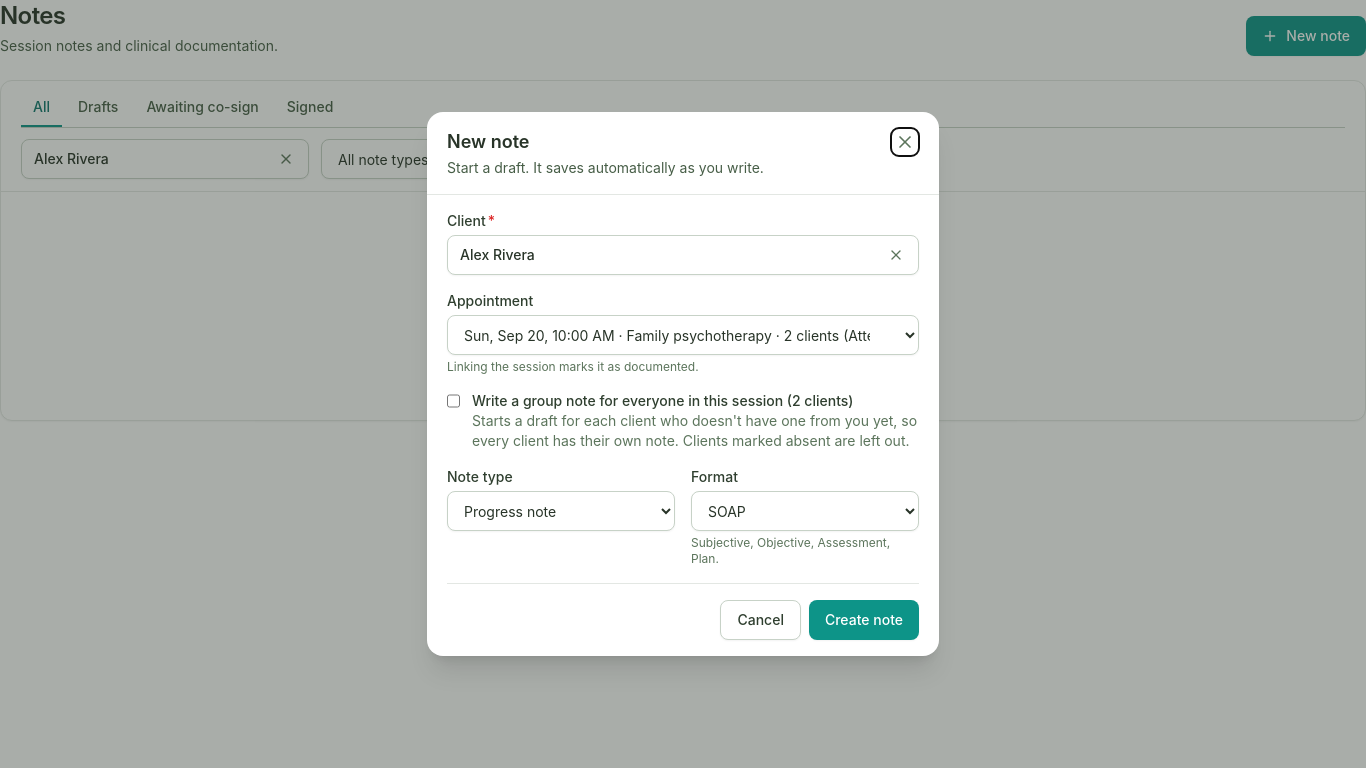
Test: group notes › offers a group note from the New note dialog for a multi-client session
Click the checkbox labelled "Write a group note for everyone in this session (2 clients)" at x=454, y=401, box [447,393,460,409]
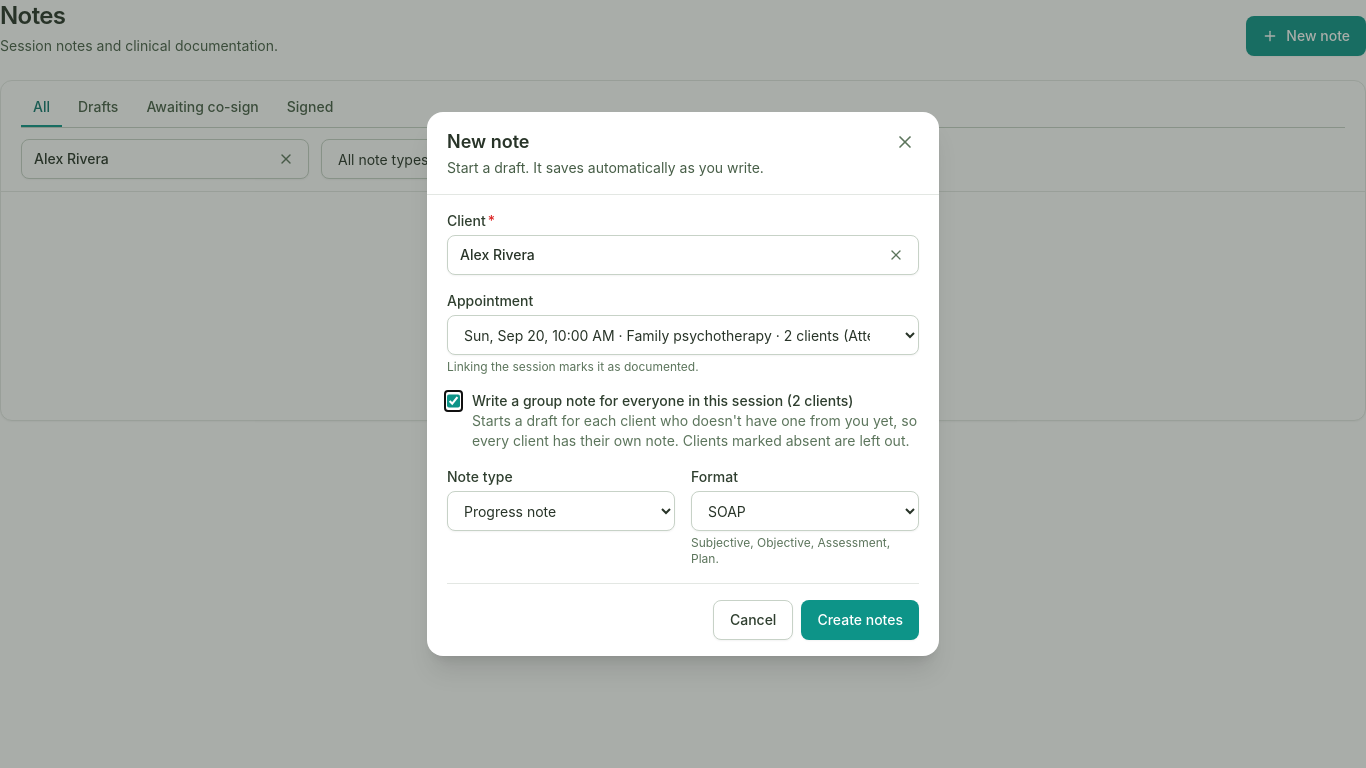
Click the button "Create notes" at x=860, y=620, box [801,600,919,640]
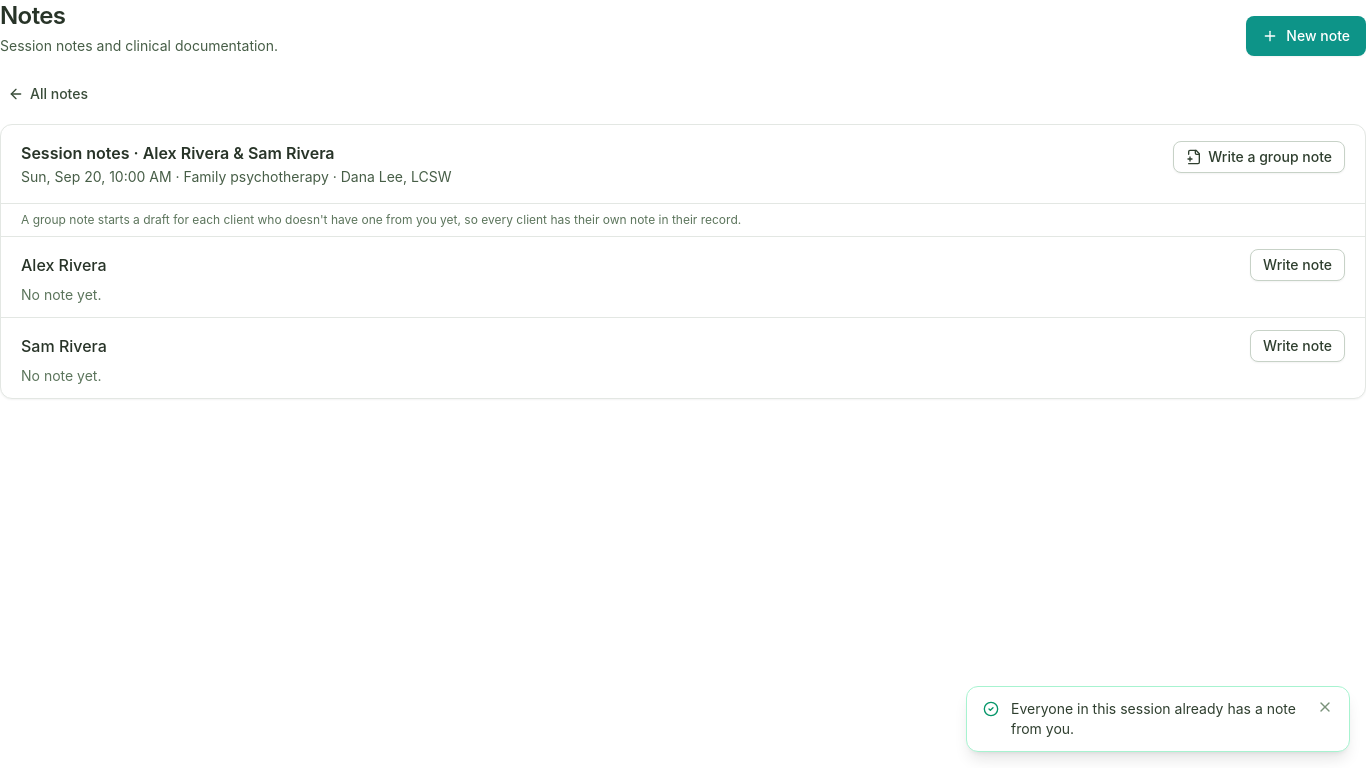
Now the heading "Session notes · Alex Rivera & Sam Rivera" is shown, box [21,143,335,163]
